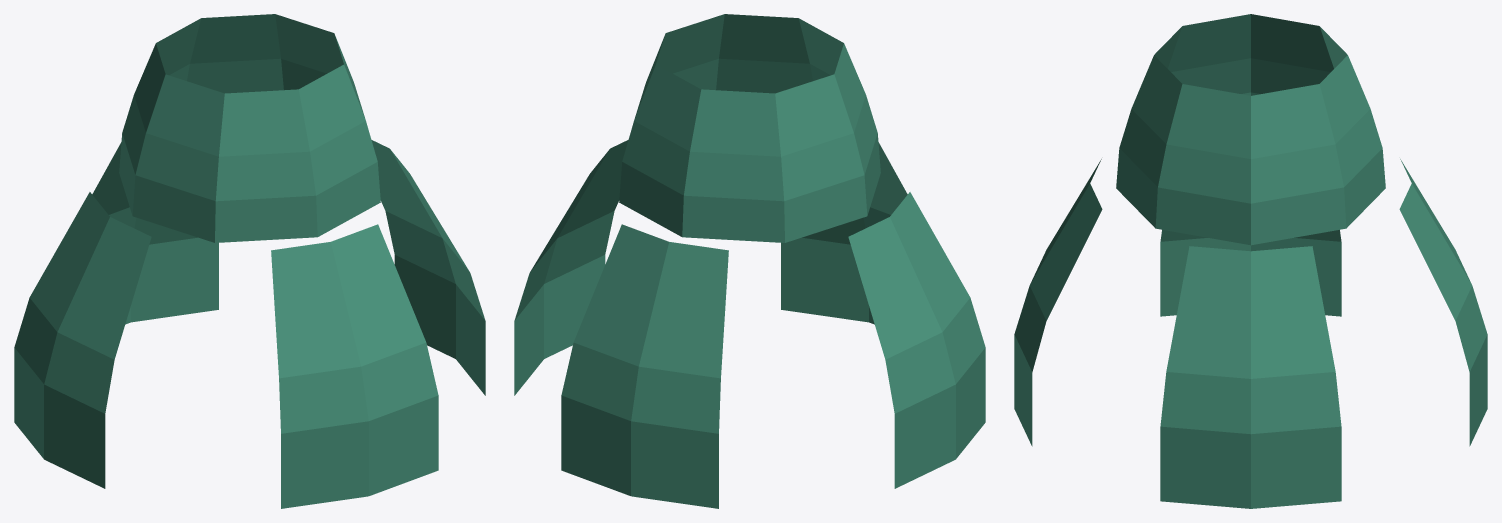
Rendered from FountainWater.fbx.
The picture shows the model from 3 angles, left to right: view 1: azimuth 30°, elevation 25°; view 2: azimuth 150°, elevation 25°; view 3: azimuth 270°, elevation 25°; orthographic projection.
Parts seen in each view (by area): view 1: Circle.002; view 2: Circle.002; view 3: Circle.002.
Boxes of the visible parts, bbox=[...] form: Circle.002: bbox=[14, 14, 485, 508]; Circle.002: bbox=[514, 14, 985, 508]; Circle.002: bbox=[1014, 14, 1487, 508].
Size of the model in its own units: 769 by 635 by 769.
